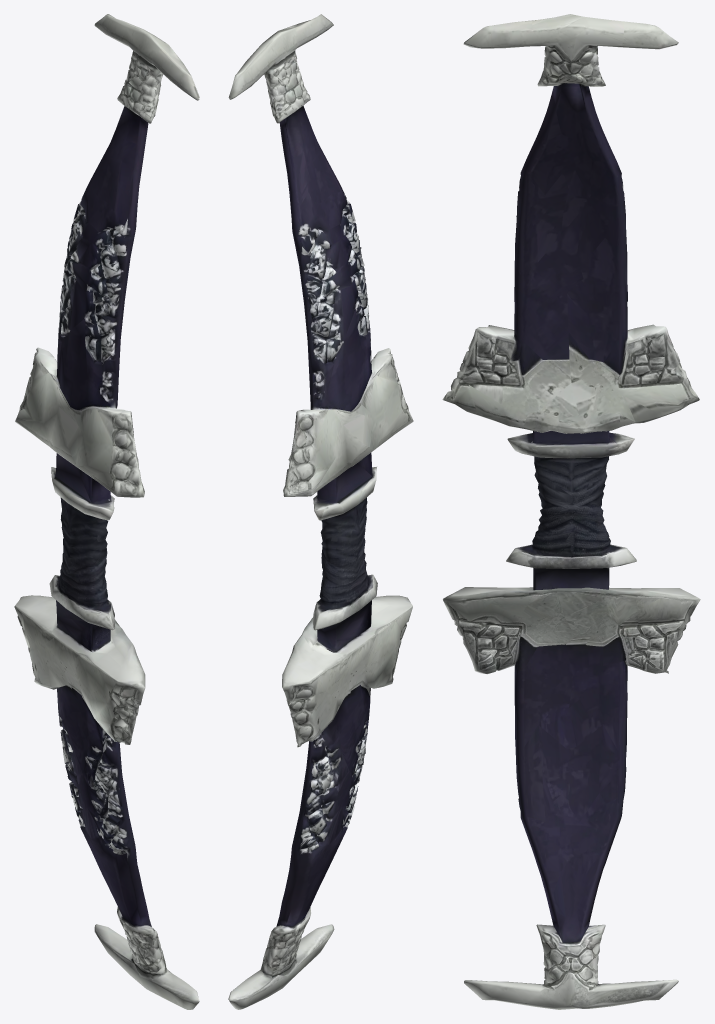
The model's file is prop_seiran_bow.glb.
3 renders of one model, left to right at view 1: azimuth 30°, elevation 25°; view 2: azimuth 150°, elevation 25°; view 3: azimuth 270°, elevation 25°, orthographic. The views are drawn at different scales.
Visible parts, largest first — view 1: tripo_node_cf749978-2407-4f28-9872-0c1f9de0be00; view 2: tripo_node_cf749978-2407-4f28-9872-0c1f9de0be00; view 3: tripo_node_cf749978-2407-4f28-9872-0c1f9de0be00.
Part boxes in pixels (x1,y1,x2,y2): tripo_node_cf749978-2407-4f28-9872-0c1f9de0be00: (14,14,199,1009); tripo_node_cf749978-2407-4f28-9872-0c1f9de0be00: (228,14,413,1009); tripo_node_cf749978-2407-4f28-9872-0c1f9de0be00: (442,14,700,1009).
Bounding box in the file's own units: 0.1047 × 0.9816 × 0.231.
Materials: 1 (1 with a texture image).
